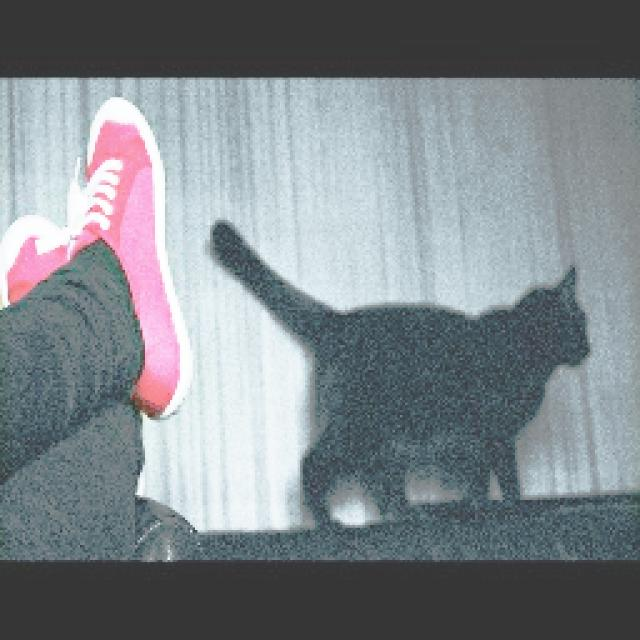cat: (206, 194, 610, 549)
